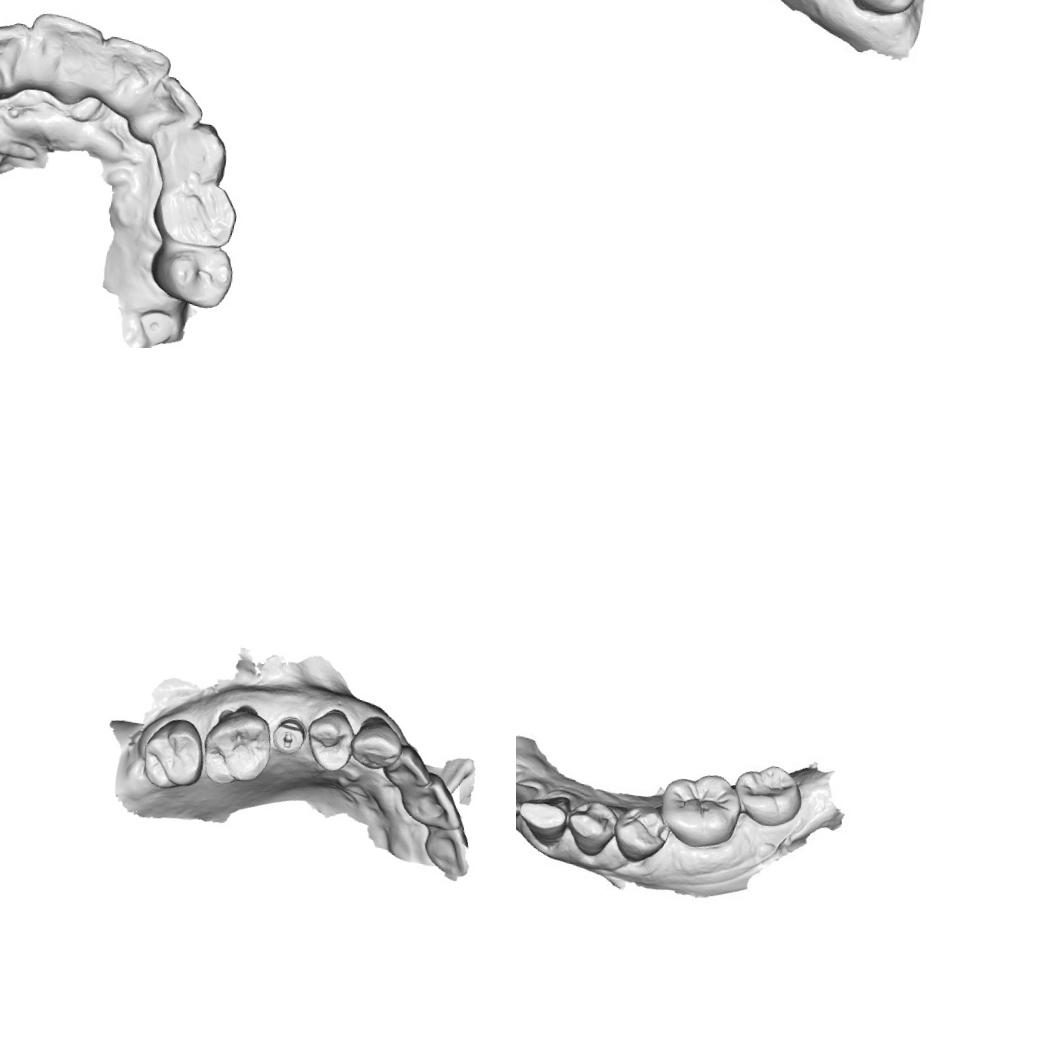canine: (154, 115, 235, 191), (346, 710, 405, 774), (516, 789, 573, 849)
implant_minus: (267, 713, 310, 758)
incisor: (20, 8, 109, 94), (128, 70, 210, 147), (92, 30, 176, 104), (399, 769, 472, 834), (416, 820, 475, 880), (0, 13, 36, 102), (380, 740, 436, 795), (516, 777, 533, 818)
molar: (197, 701, 278, 792), (660, 767, 740, 846), (136, 712, 209, 796), (738, 762, 802, 827)
premolar: (146, 174, 244, 254), (144, 236, 238, 313), (300, 704, 358, 776), (566, 798, 616, 850), (618, 812, 666, 858)
